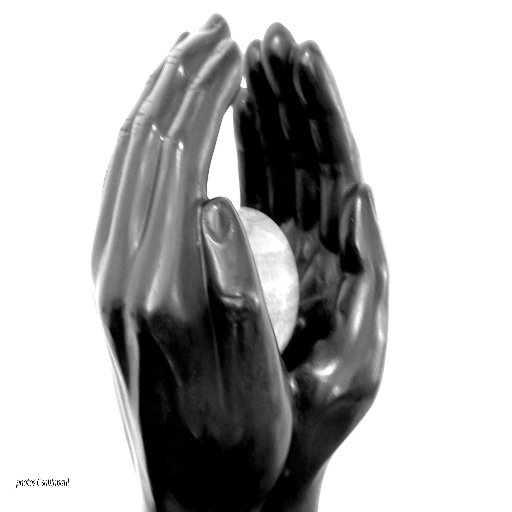hand: (93, 44, 299, 482), (232, 20, 386, 493)
